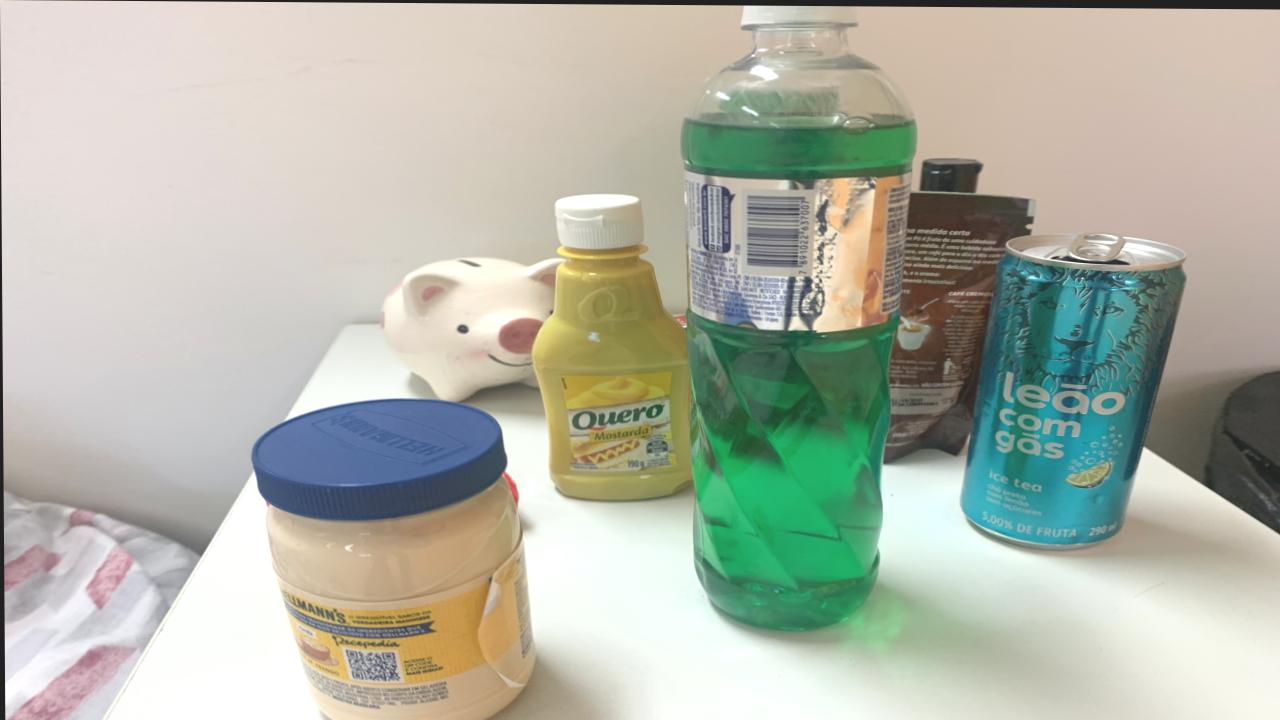Coffee-Pantry_Items: (883, 189, 1034, 461)
Detergent-Cleanup_Items: (681, 4, 916, 629)
English_Sauce-Pantry_Items: (919, 157, 983, 191)
Mayonnaise-Pantry_Items: (253, 398, 534, 720)
Mustard-Pantry_Items: (532, 193, 690, 499)
Pig_Safe-Miscellaneous: (379, 256, 561, 400)
Tea-Drinks: (960, 231, 1184, 546)
